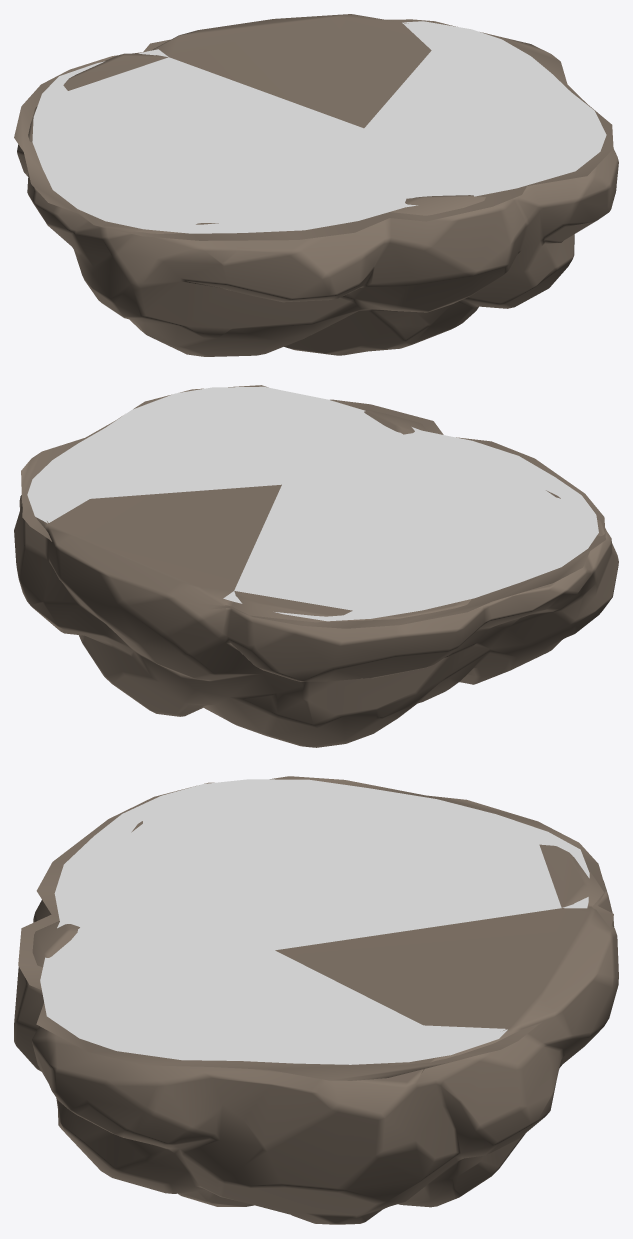
Rendered from IlhaPP3.fbx.
3 views of the same model, one above another, from view 1: azimuth 30°, elevation 25°; view 2: azimuth 150°, elevation 25°; view 3: azimuth 270°, elevation 25° (orthographic). The views are drawn at different scales.
Visible parts, largest first — view 1: IlhaPP3, IlhaPP3Grama, IlhaPP3Colisor; view 2: IlhaPP3, IlhaPP3Grama, IlhaPP3Colisor; view 3: IlhaPP3Grama, IlhaPP3, IlhaPP3Colisor.
Part boxes in pixels (box(x1,y1,x2,y2)): IlhaPP3: box(17, 14, 618, 356); IlhaPP3Grama: box(32, 21, 606, 233); IlhaPP3Colisor: box(14, 19, 613, 240); IlhaPP3: box(14, 410, 618, 747); IlhaPP3Grama: box(27, 386, 598, 621); IlhaPP3Colisor: box(21, 385, 605, 628); IlhaPP3Grama: box(40, 779, 589, 1064); IlhaPP3: box(14, 821, 618, 1224); IlhaPP3Colisor: box(18, 776, 613, 1080).
Bounding box in the file's own units: 796 × 300 × 667.
